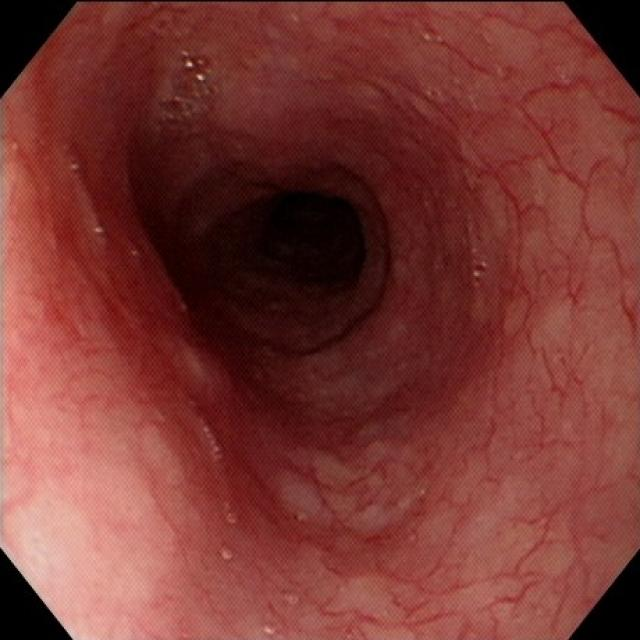E: (220, 189, 371, 296)
T: (162, 51, 217, 127)
